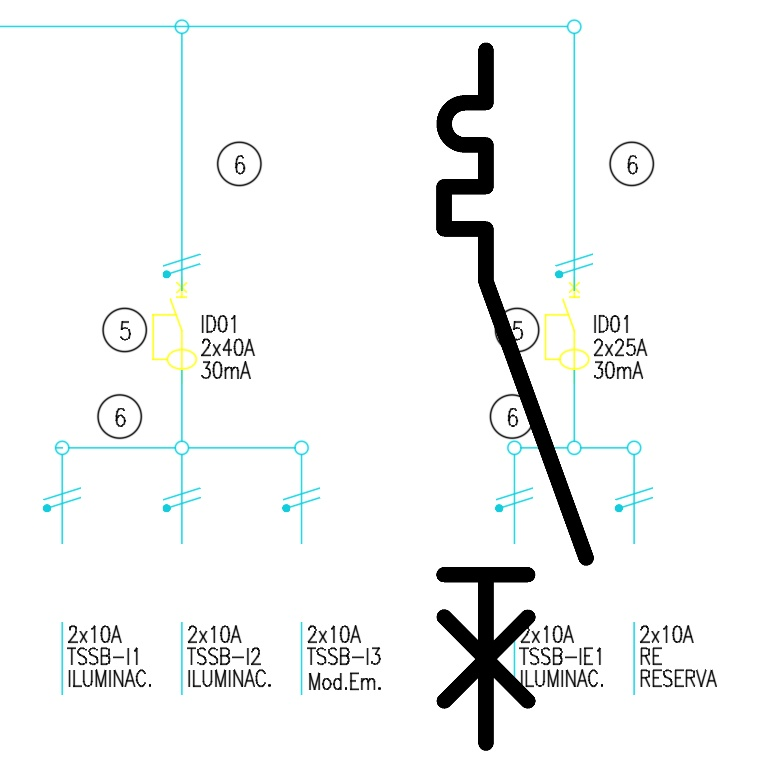interruptor_termomagnetico: (426, 32, 604, 760)
